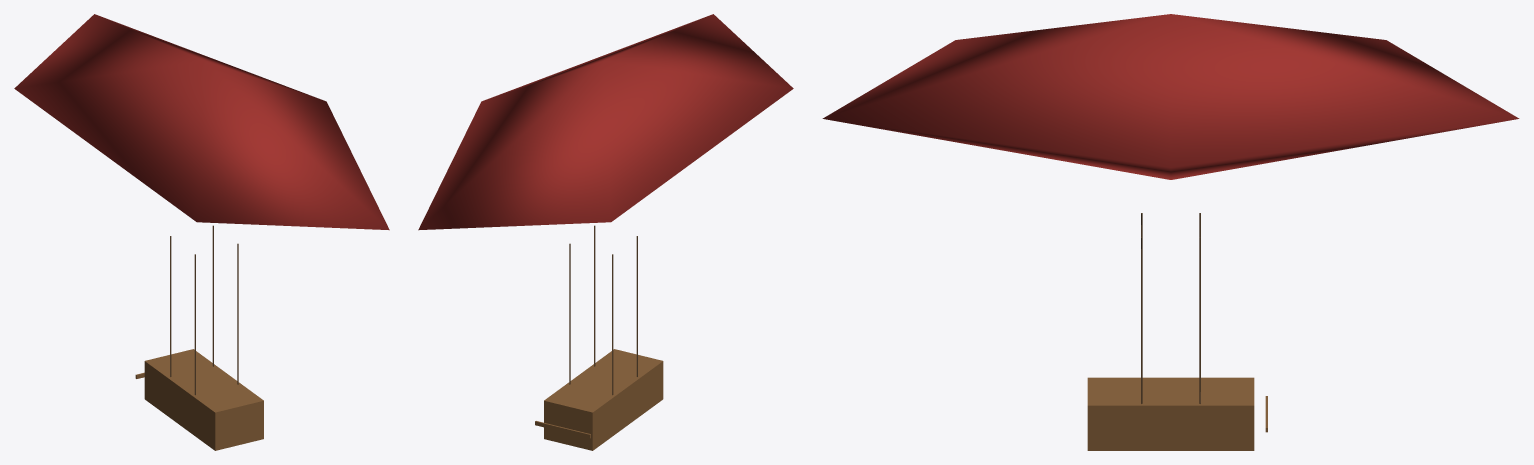
The model's file is veh_air_balloon_a05_lod2.glb.
3 renders of one model, left to right at view 1: azimuth 30°, elevation 25°; view 2: azimuth 150°, elevation 25°; view 3: azimuth 270°, elevation 25°, orthographic. The views are drawn at different scales.
Visible parts, largest first — view 1: body; view 2: body; view 3: body.
Part boxes in pixels (x1,y1,x2,y2): body: [14, 14, 389, 450]; body: [418, 14, 793, 450]; body: [822, 14, 1519, 450].
Size of the model in its own units: 7.24 by 11.2 by 16.74.
